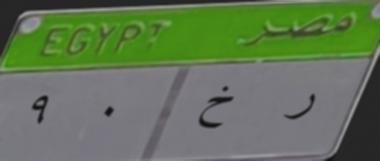0: (94, 95, 122, 128)
9: (22, 90, 54, 132)
khaa: (196, 81, 235, 134)
raa: (281, 85, 318, 126)
